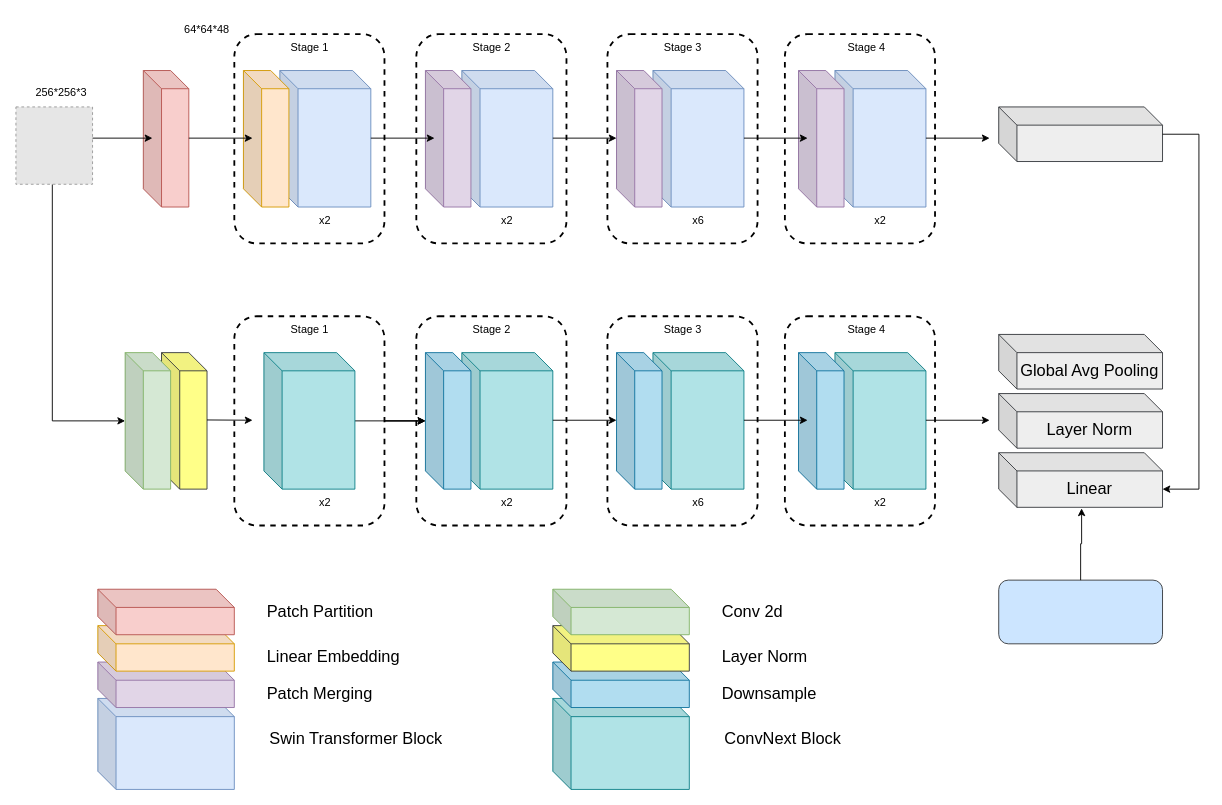
Some shapes in this 1222 by 805 pixel diagram are drawn without their labels. Grey dashed boxes stand in for pictures. The centre of each missing label's shape, as x and y in pixels:
"Labels" belongs at pixel 1080 611.
"Softmax" belongs at pixel 1080 134.
